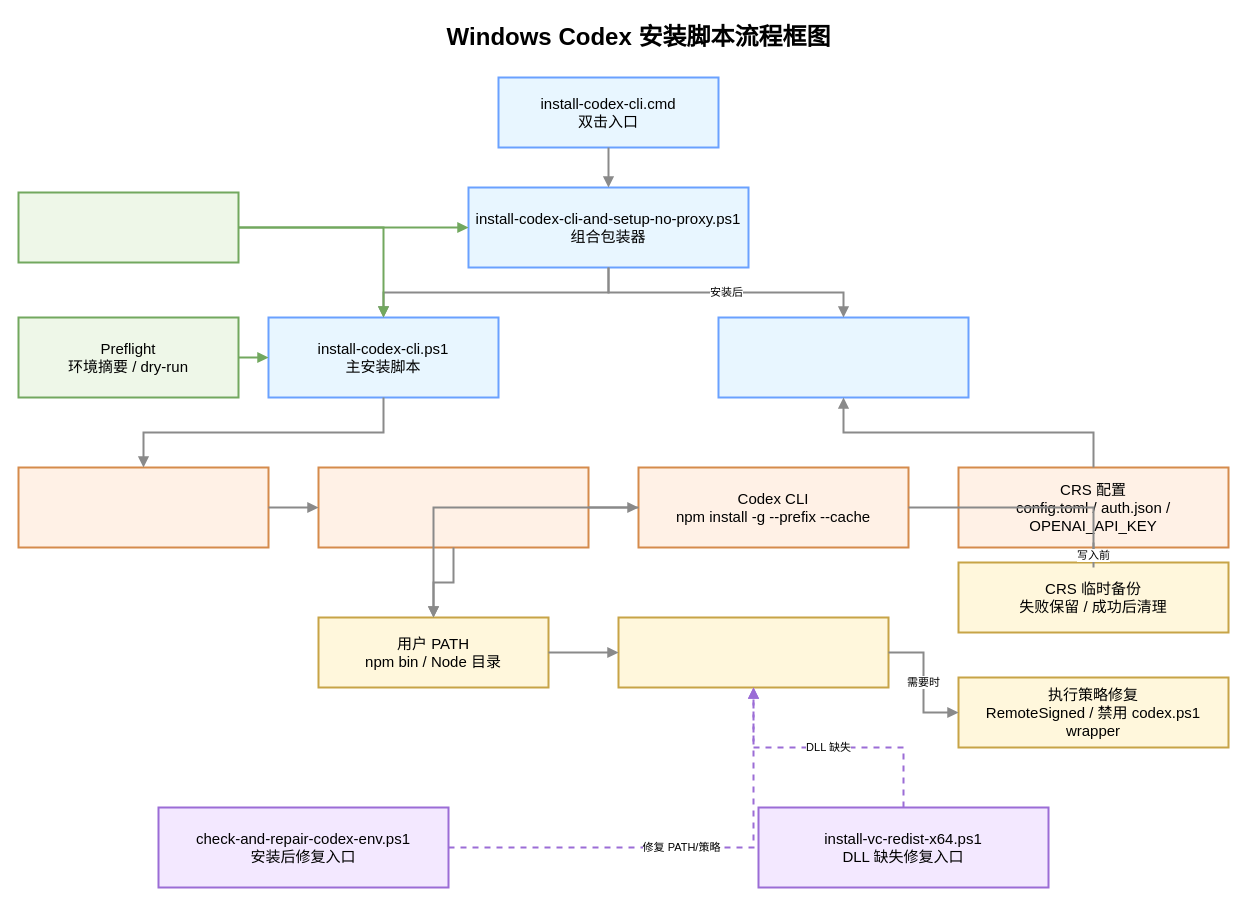
Image size: 1246x905. Some labels were removed from this diagram. Here are the shapes that lost their labels. From the top down, the centre of each, then its label:
(x=128, y=227): logging.ps1 共享日志模块
(x=843, y=357): setup_no_proxy_windows.ps1 NO_PROXY 配置
(x=143, y=507): ASCII-safe 路径 C:\Codex / CODEX_HOME / ACL
(x=453, y=507): Node.js LTS 下载 zip / SHA256 / 原子替换
(x=753, y=652): 可用性探测 codex.cmd / PowerShell / -NoProfile
